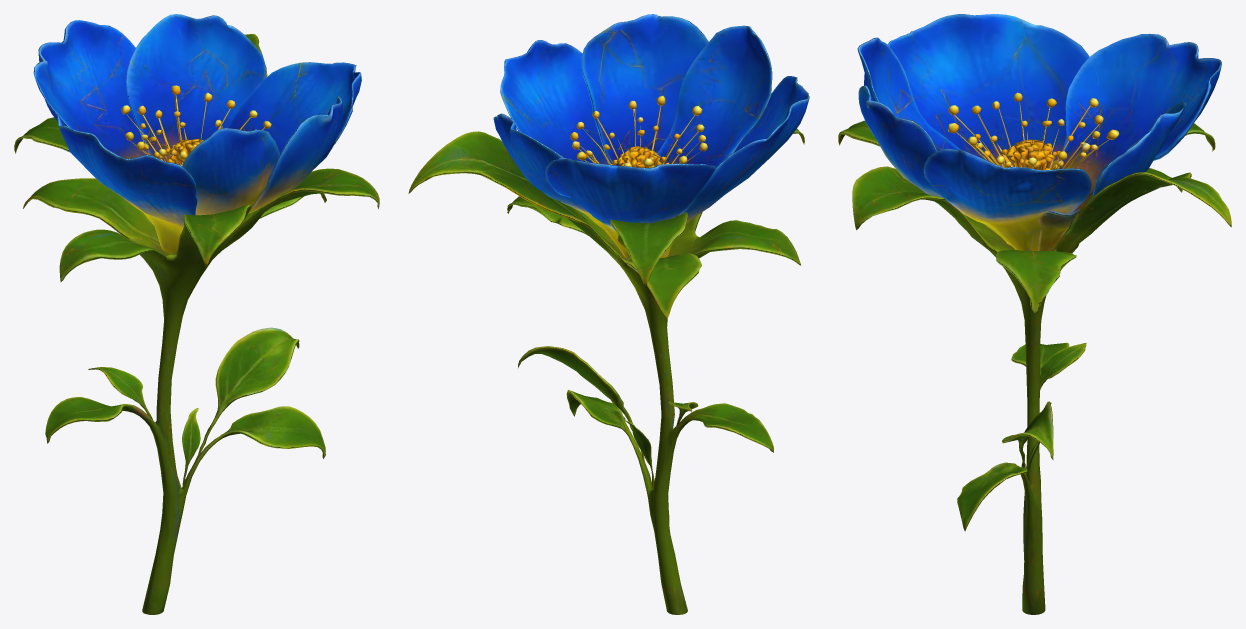
Rendered from poppy_blue.glb.
3 renders of one model, left to right at view 1: azimuth 30°, elevation 25°; view 2: azimuth 150°, elevation 25°; view 3: azimuth 270°, elevation 25°, orthographic. The views are drawn at different scales.
Parts seen in each view (by area): view 1: geometry_0; view 2: geometry_0; view 3: geometry_0.
Boxes of the visible parts, x1=… form: geometry_0: x1=14, y1=14, x2=379, y2=614; geometry_0: x1=408, y1=14, x2=809, y2=614; geometry_0: x1=838, y1=14, x2=1231, y2=614.
Bounding box in the file's own units: 0.5552 × 0.9526 × 0.5962.
1 material, 1 textured.
